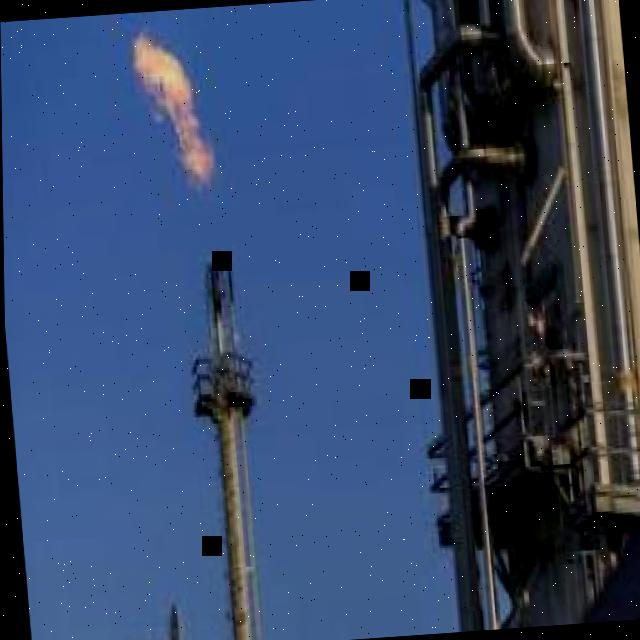fire: (132, 31, 215, 193)
